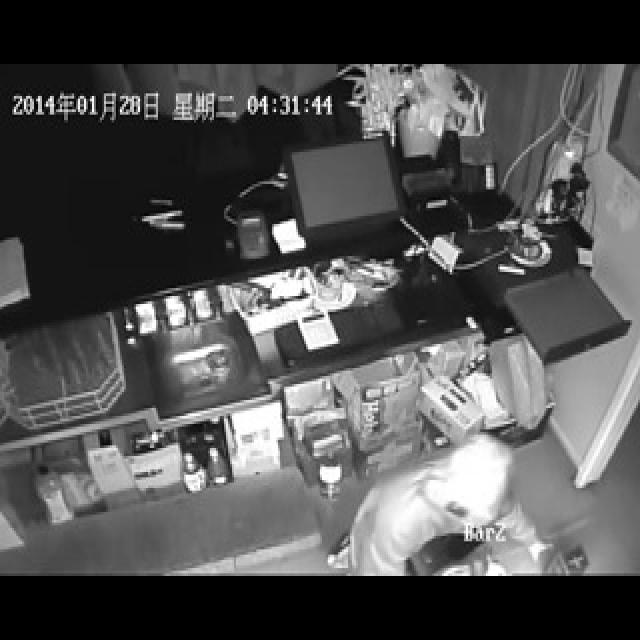thief: (346, 431, 554, 572)
